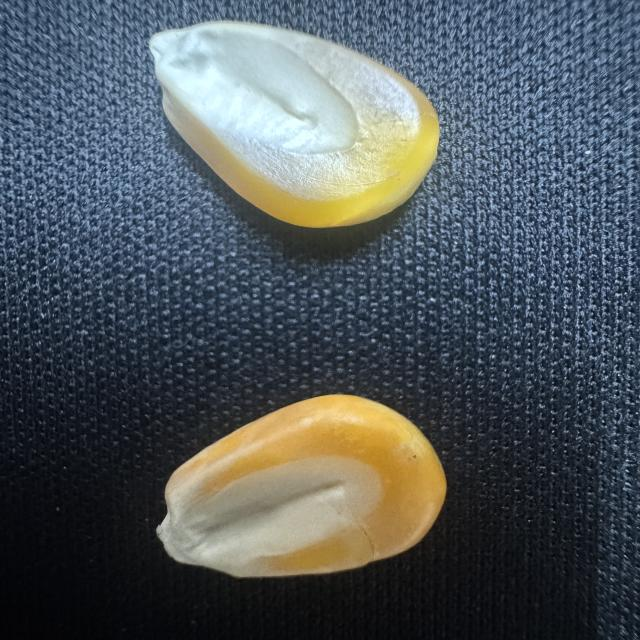Good-Seed: (136, 11, 456, 238), (146, 383, 456, 582)
